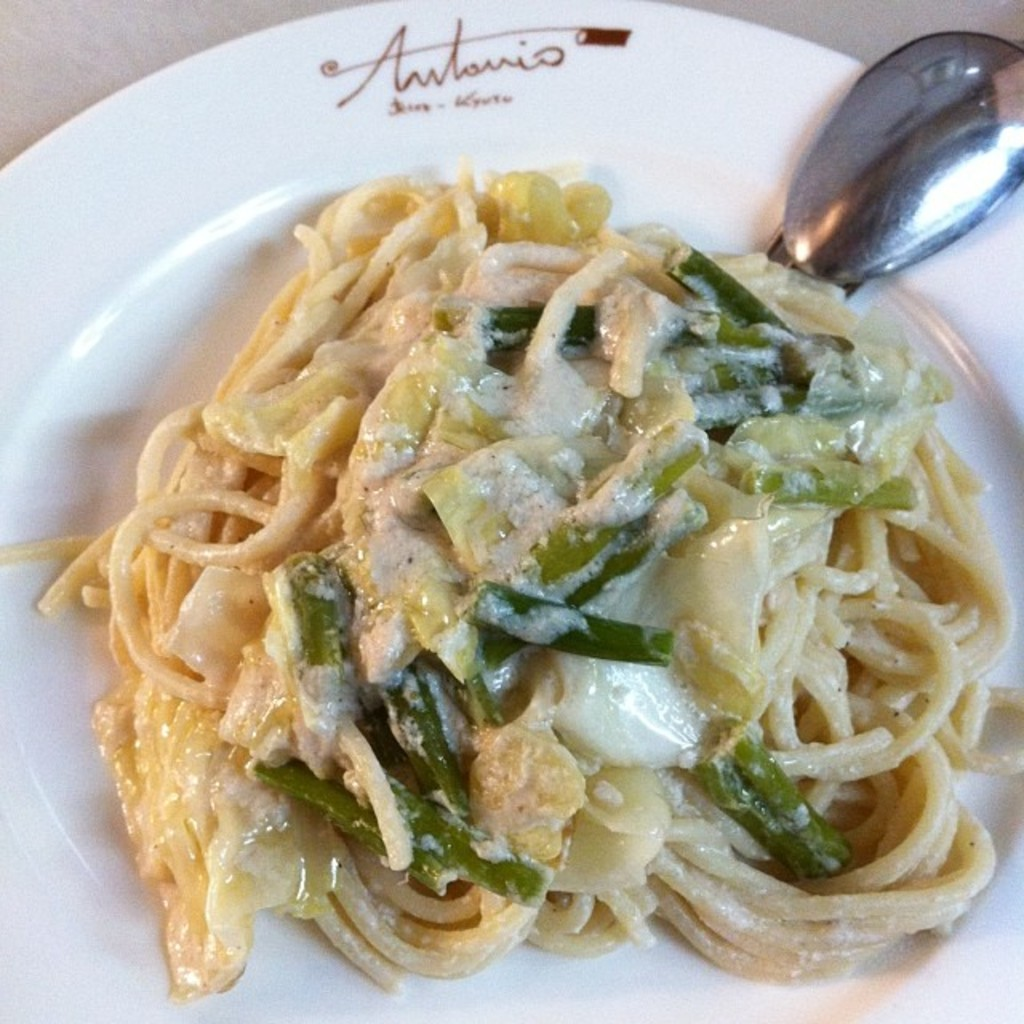pasta: (0, 166, 1022, 994)
